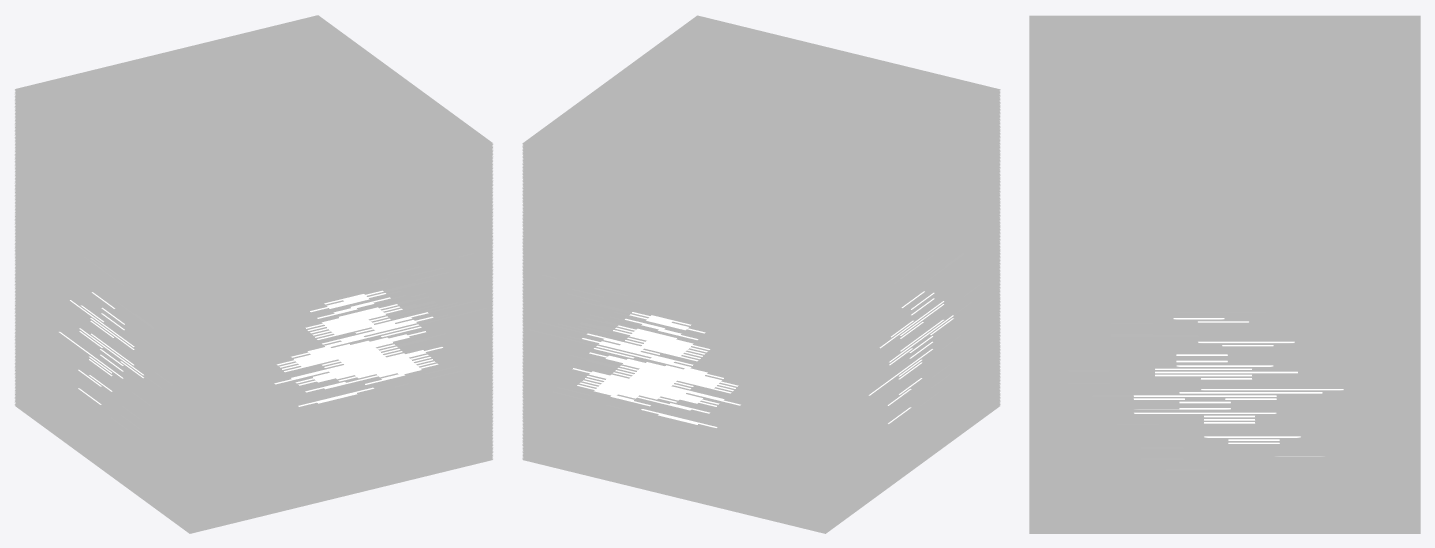
Rendered from cloud.glb.
3 views of the same model, side by side, from view 1: azimuth 30°, elevation 25°; view 2: azimuth 150°, elevation 25°; view 3: azimuth 270°, elevation 25° (orthographic). The views are drawn at different scales.
Visible parts, largest first — view 1: Object_4; view 2: Object_4; view 3: Object_4.
Boxes of the visible parts, box(x1,y1,x2,y2) form: Object_4: box(14, 15, 493, 533); Object_4: box(522, 15, 1000, 533); Object_4: box(1029, 15, 1420, 533).
Bounding box in the file's own units: 1 × 1 × 1.
3 materials, 3 textured.
